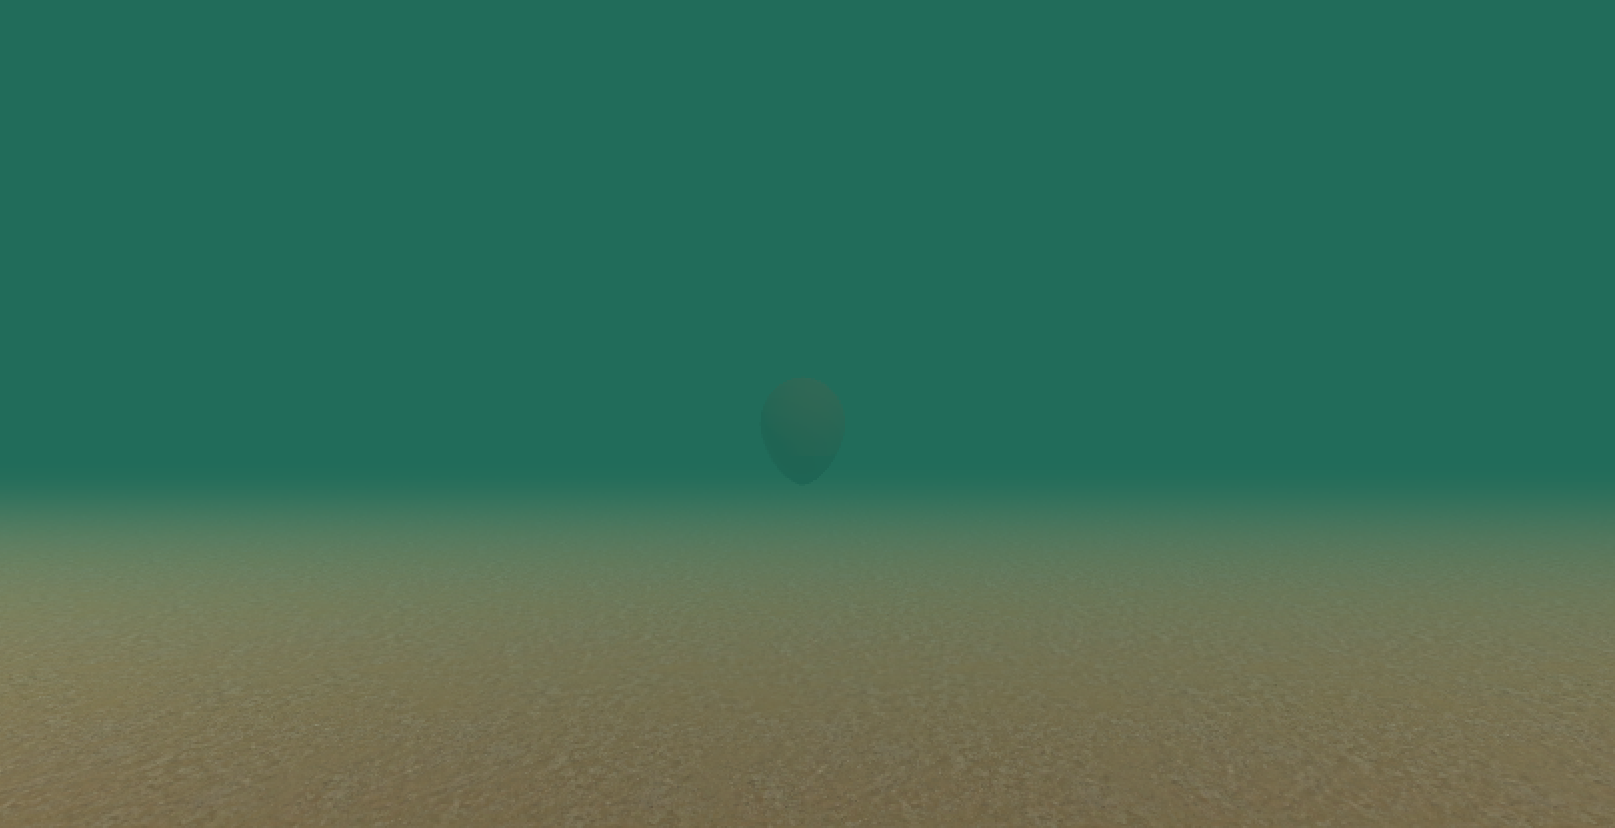orange buoy: (757, 376, 848, 488)
